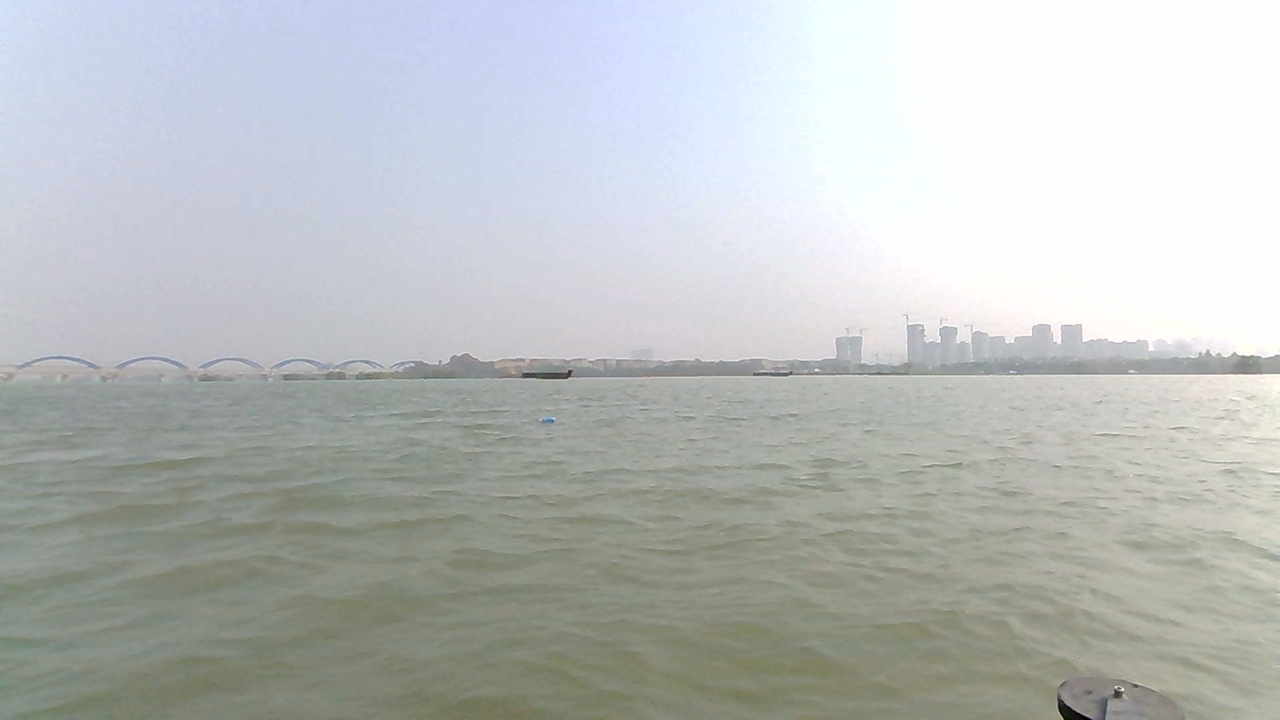bottle: (534, 414, 562, 427)
